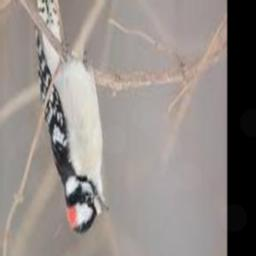Woodpecker: (35, 0, 108, 233)
